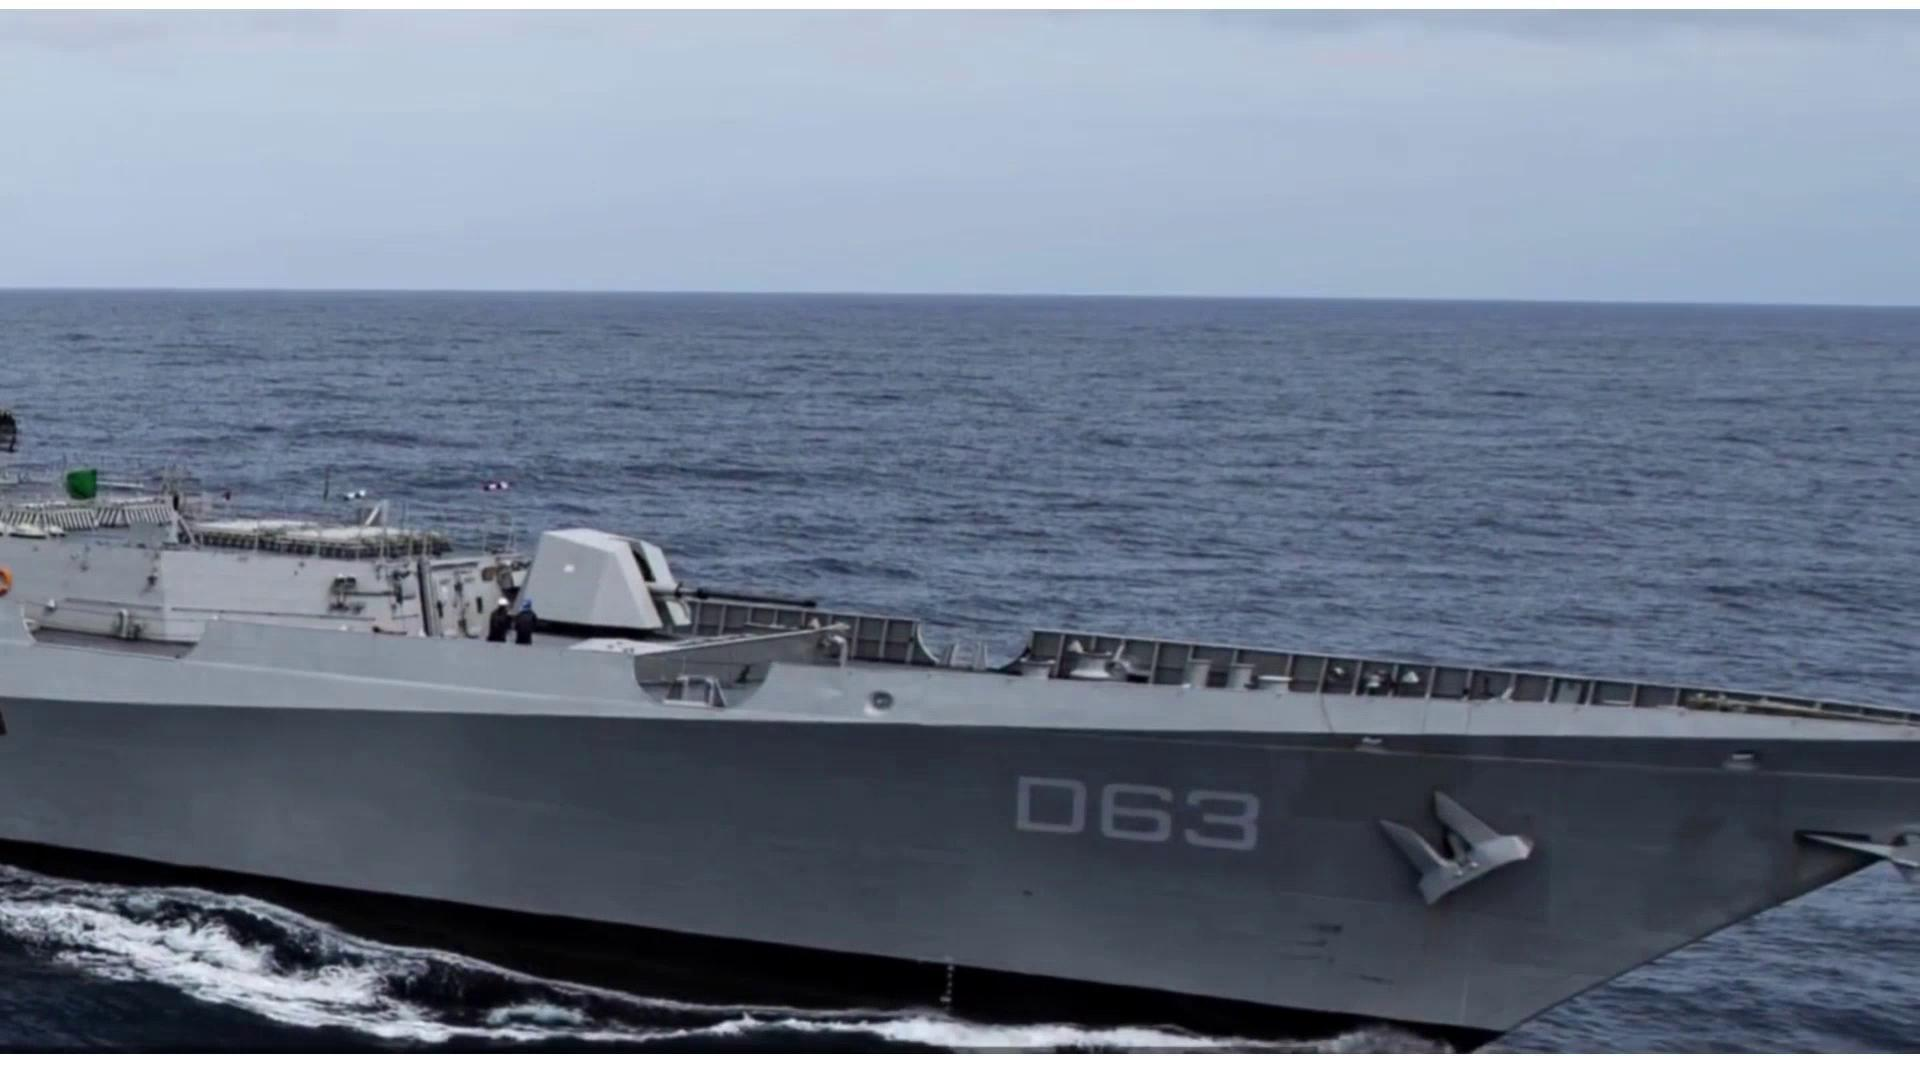OCR: (1007, 762, 1267, 865)
